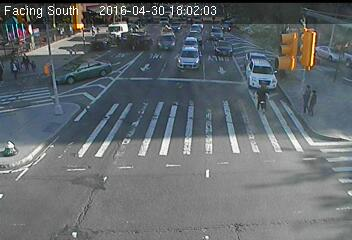neg: (265, 173, 289, 204), (42, 95, 65, 126), (216, 137, 235, 163), (274, 41, 292, 66), (108, 47, 125, 70), (165, 106, 182, 129), (75, 61, 92, 83), (216, 92, 233, 114), (5, 138, 21, 159), (217, 41, 233, 62), (138, 168, 152, 188), (146, 45, 160, 63), (190, 56, 202, 73)
pos: (252, 81, 276, 114), (294, 83, 314, 110), (305, 90, 323, 114), (5, 58, 22, 80)
